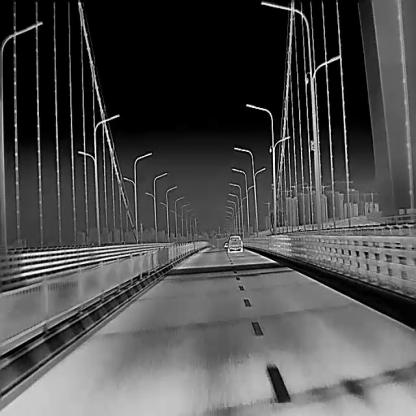car: (227, 235, 242, 252), (223, 241, 227, 247)
